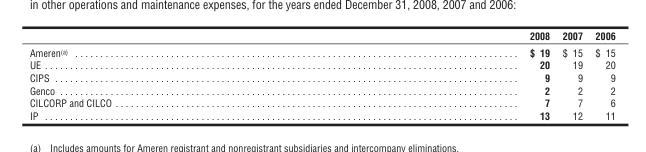table: (28, 29, 614, 121)
table column: (28, 29, 319, 121), (319, 29, 555, 121), (555, 29, 588, 121), (588, 29, 614, 121)
table column header: (28, 29, 614, 43)
table row: (28, 43, 614, 58), (28, 29, 614, 43), (28, 58, 614, 71), (28, 83, 614, 96), (28, 108, 614, 121), (28, 71, 614, 83), (28, 96, 614, 108)
